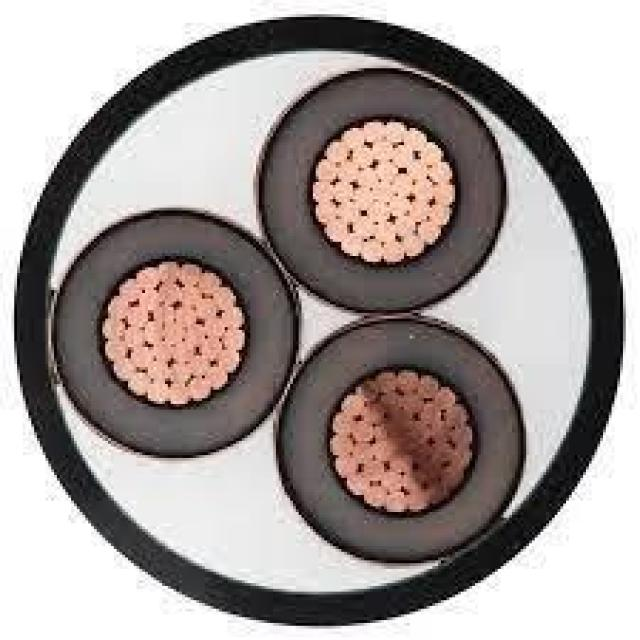wire: (219, 327, 242, 373), (415, 219, 441, 250), (358, 239, 384, 267), (395, 367, 421, 395), (176, 259, 202, 287), (384, 117, 407, 148), (384, 407, 407, 438), (165, 381, 191, 407), (330, 452, 356, 478), (100, 338, 128, 362), (222, 304, 247, 330), (358, 120, 384, 145), (427, 202, 452, 228), (427, 159, 452, 185), (339, 125, 364, 151), (378, 239, 401, 267), (313, 154, 338, 179), (134, 262, 159, 287), (339, 390, 364, 415), (350, 211, 375, 236), (338, 230, 362, 256), (96, 313, 120, 338), (432, 384, 458, 407), (313, 196, 336, 222), (128, 370, 151, 395), (350, 142, 375, 165), (350, 421, 375, 444), (364, 484, 387, 509), (384, 447, 407, 472), (324, 430, 350, 452), (140, 287, 162, 313), (450, 421, 472, 447), (168, 339, 190, 364), (384, 492, 407, 515), (426, 412, 444, 441), (168, 358, 188, 384), (105, 293, 125, 319), (390, 142, 412, 165), (142, 319, 162, 344), (352, 185, 372, 210), (392, 171, 412, 196), (156, 279, 176, 304), (162, 319, 182, 344), (199, 333, 219, 358), (430, 441, 450, 466), (352, 168, 376, 188), (148, 342, 171, 362), (336, 159, 356, 182), (410, 421, 430, 444), (361, 398, 381, 421), (450, 446, 470, 469), (208, 364, 225, 390), (131, 344, 148, 370), (182, 322, 202, 344), (194, 296, 214, 318), (372, 370, 392, 392), (401, 467, 418, 492), (392, 214, 412, 234), (174, 302, 194, 322), (387, 194, 407, 214), (352, 444, 372, 464), (361, 461, 381, 481), (412, 199, 430, 219), (372, 438, 390, 458), (333, 182, 353, 199), (372, 182, 392, 199), (148, 362, 168, 378), (159, 302, 171, 322)
